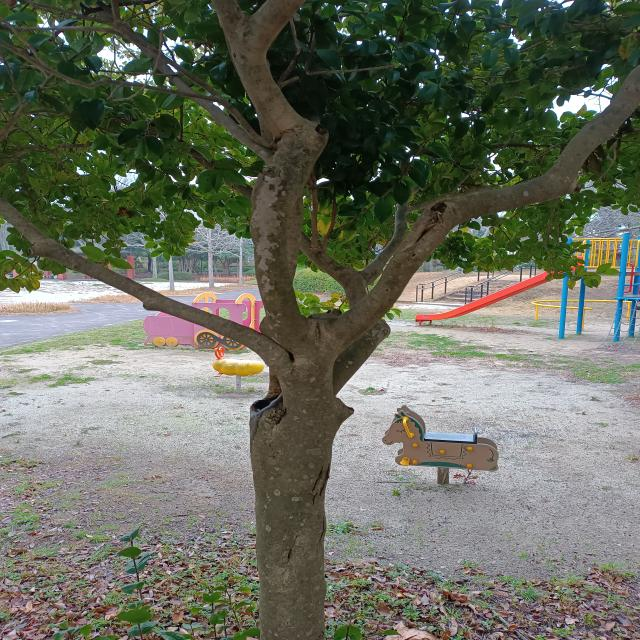Branch: (328, 66, 639, 361), (0, 197, 288, 373), (228, 11, 330, 361), (335, 269, 386, 392)
Twig: (111, 0, 267, 147), (131, 41, 264, 160), (1, 40, 213, 100), (363, 202, 412, 285), (301, 231, 349, 282), (33, 2, 113, 25), (0, 25, 128, 39), (254, 0, 304, 29), (208, 0, 242, 31)
